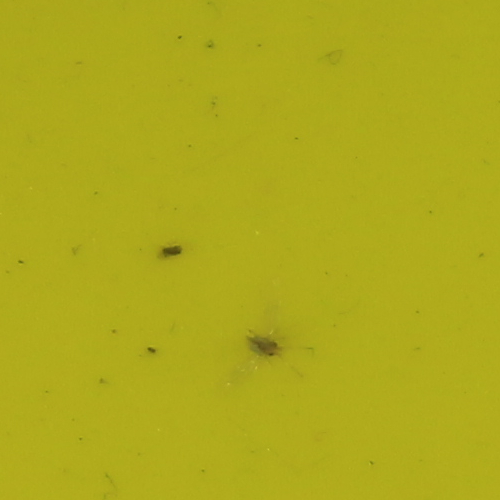Glycaspis: (245, 331, 285, 362)
